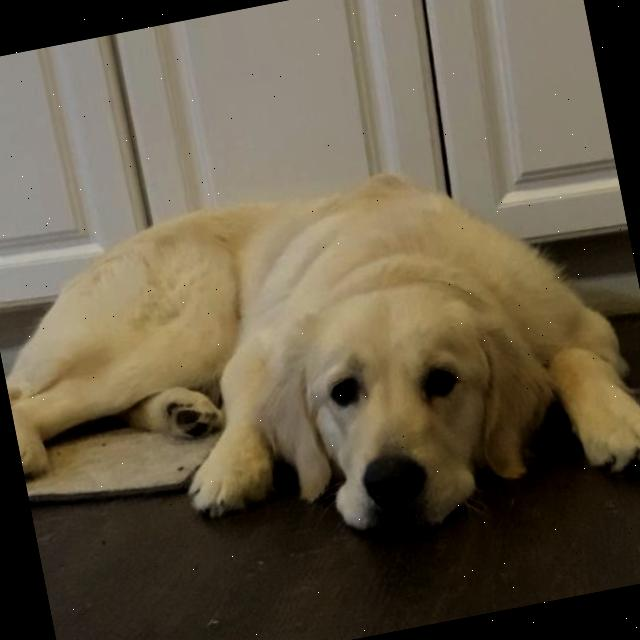golden_retriever_dog: (142, 227, 640, 592)
